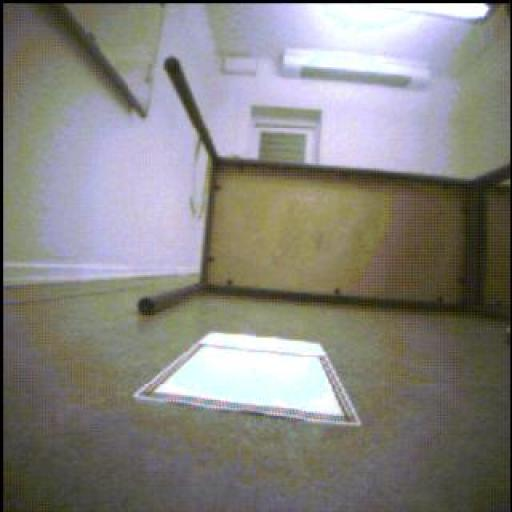Pad: (154, 322, 368, 437)
